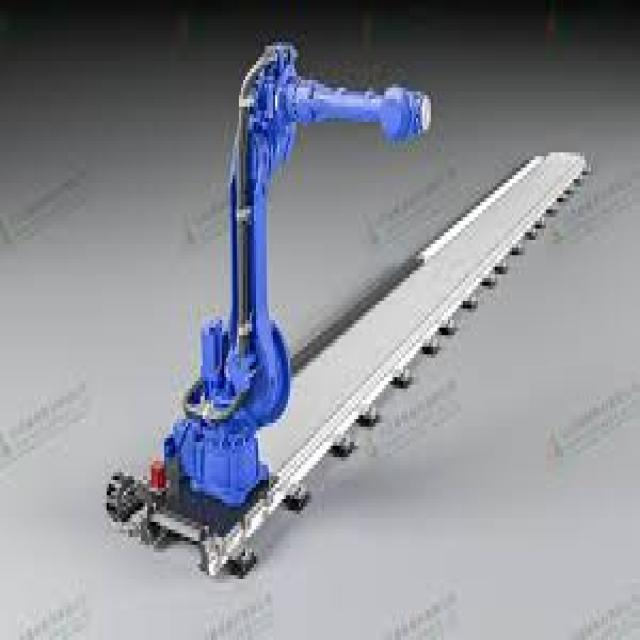Robotic-arm: (114, 40, 436, 558)
